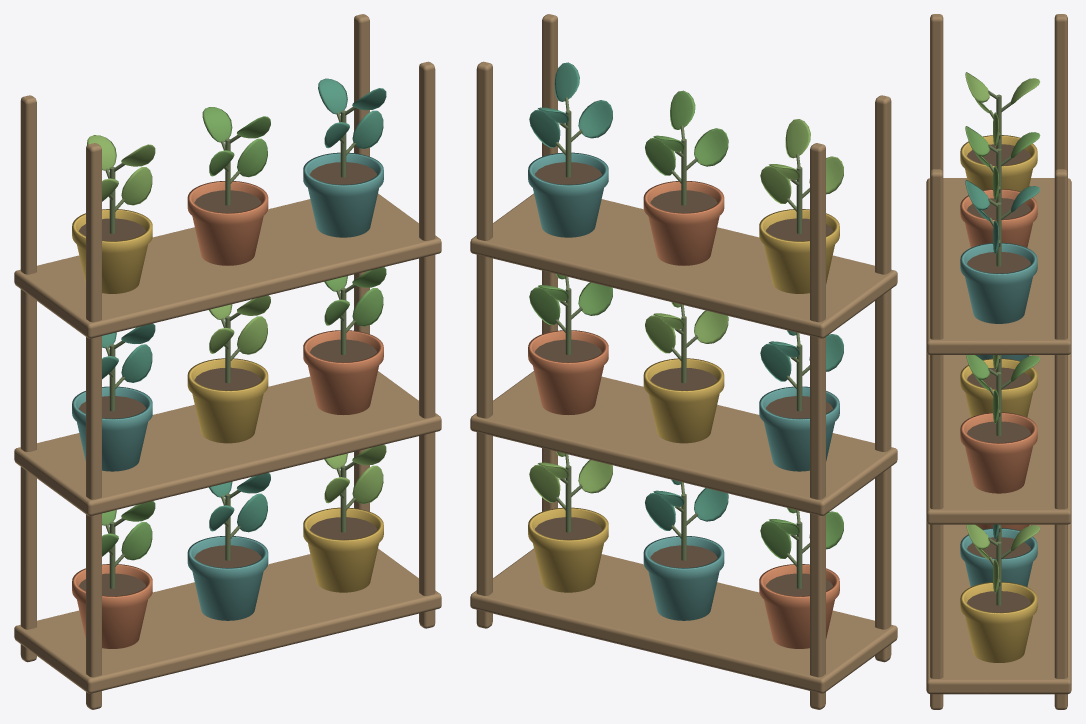
File: plantshelf.glb
3 renders of one model, left to right at view 1: azimuth 30°, elevation 25°; view 2: azimuth 150°, elevation 25°; view 3: azimuth 270°, elevation 25°, orthographic. The views are drawn at different scales.
Parts seen in each view (by area): view 1: tray-2, tray-1, tray-0, upright-0-62-0-21, upright--0-62--0-21, upright--0-62-0-21, pot-1-1-hollow-vessel, pot-2-1-hollow-vessel, pot-0-1-hollow-vessel, pot-2-2-hollow-vessel, pot-0-2-hollow-vessel, pot-1-2-hollow-vessel (+24 smaller); view 2: tray-2, tray-1, tray-0, upright-0-62--0-21, upright--0-62-0-21, upright--0-62--0-21, pot-1-1-hollow-vessel, pot-2-1-hollow-vessel, pot-0-1-hollow-vessel, pot-2-2-hollow-vessel, pot-0-2-hollow-vessel, pot-1-2-hollow-vessel (+31 smaller); view 3: tray-2, tray-0, tray-1, upright-0-62--0-21, upright-0-62-0-21, pot-1-2-hollow-vessel, pot-2-2-hollow-vessel, pot-0-2-hollow-vessel, pot-0-1-hollow-vessel, pot-1-1-hollow-vessel, pot-2-1-hollow-vessel, upright--0-62--0-21 (+22 smaller).
Part boxes in pixels (<box>): tray-2: <box>14,193,441,338</box>; tray-1: <box>14,371,441,516</box>; tray-0: <box>14,548,441,693</box>; upright-0-62-0-21: <box>419,61,435,628</box>; upright--0-62--0-21: <box>20,95,36,662</box>; upright--0-62-0-21: <box>86,143,101,709</box>; pot-1-1-hollow-vessel: <box>187,358,268,443</box>; pot-2-1-hollow-vessel: <box>187,181,268,265</box>; pot-0-1-hollow-vessel: <box>187,536,268,620</box>; pot-2-2-hollow-vessel: <box>303,152,383,237</box>; pot-0-2-hollow-vessel: <box>303,507,383,592</box>; pot-1-2-hollow-vessel: <box>303,330,383,414</box>; tray-2: <box>470,193,897,338</box>; tray-1: <box>470,371,897,516</box>; tray-0: <box>470,548,897,693</box>; upright-0-62--0-21: <box>476,61,492,628</box>; upright--0-62-0-21: <box>875,95,891,662</box>; upright--0-62--0-21: <box>810,143,825,709</box>; pot-1-1-hollow-vessel: <box>643,358,724,443</box>; pot-2-1-hollow-vessel: <box>643,181,724,265</box>; pot-0-1-hollow-vessel: <box>643,536,724,620</box>; pot-2-2-hollow-vessel: <box>528,152,608,237</box>; pot-0-2-hollow-vessel: <box>528,507,608,592</box>; pot-1-2-hollow-vessel: <box>528,330,608,414</box>; tray-2: <box>926,178,1071,354</box>; tray-0: <box>926,521,1071,694</box>; tray-1: <box>926,351,1071,524</box>; upright-0-62--0-21: <box>1054,169,1067,709</box>; upright-0-62-0-21: <box>930,169,943,709</box>; pot-1-2-hollow-vessel: <box>960,412,1037,493</box>; pot-2-2-hollow-vessel: <box>960,242,1037,323</box>; pot-0-2-hollow-vessel: <box>960,582,1037,662</box>; pot-0-1-hollow-vessel: <box>960,528,1037,586</box>; pot-1-1-hollow-vessel: <box>960,358,1037,417</box>; pot-2-1-hollow-vessel: <box>960,189,1037,247</box>; upright--0-62--0-21: <box>1054,14,1067,172</box>.
Bounding box in the file's own units: 1.32 × 2 × 0.49.
